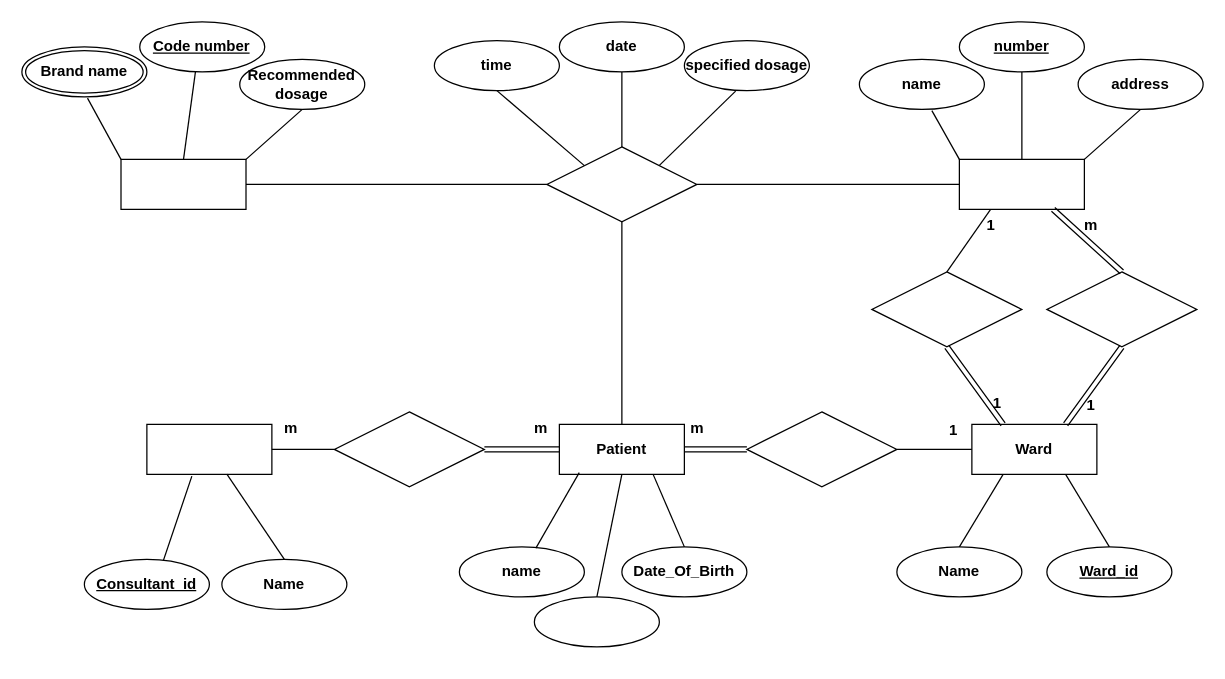
Some shapes in this 1225 by 679 pixel diagram are drawn without their labels. The shapes that lost their labels are listed below. From the top down, each one's box as (x1, y1, x2, y2) in pixels, then its label:
(120, 158, 246, 209): Drug
(546, 146, 697, 222): Gives
(958, 158, 1084, 209): Nurse
(871, 271, 1022, 347): Supervises
(1046, 271, 1197, 347): Serves
(146, 423, 272, 474): Consultant
(333, 411, 484, 487): Is assigned
(746, 411, 897, 487): Is hosted by
(533, 596, 659, 647): Patient_id
